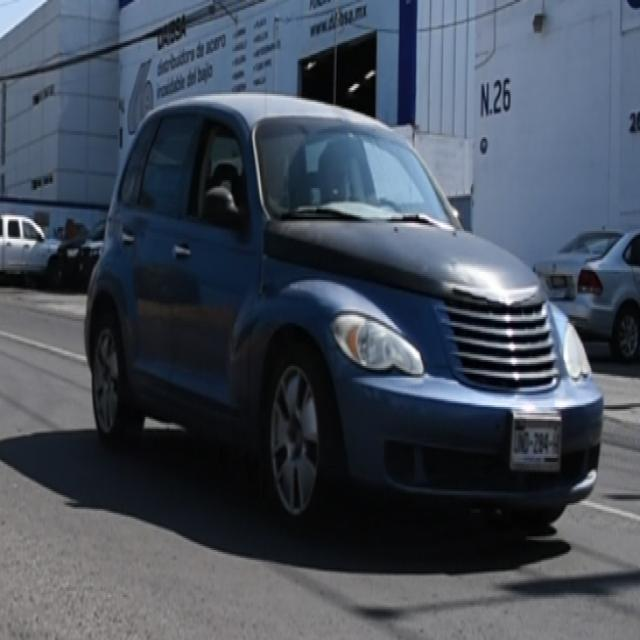placa: (512, 426, 562, 458)
